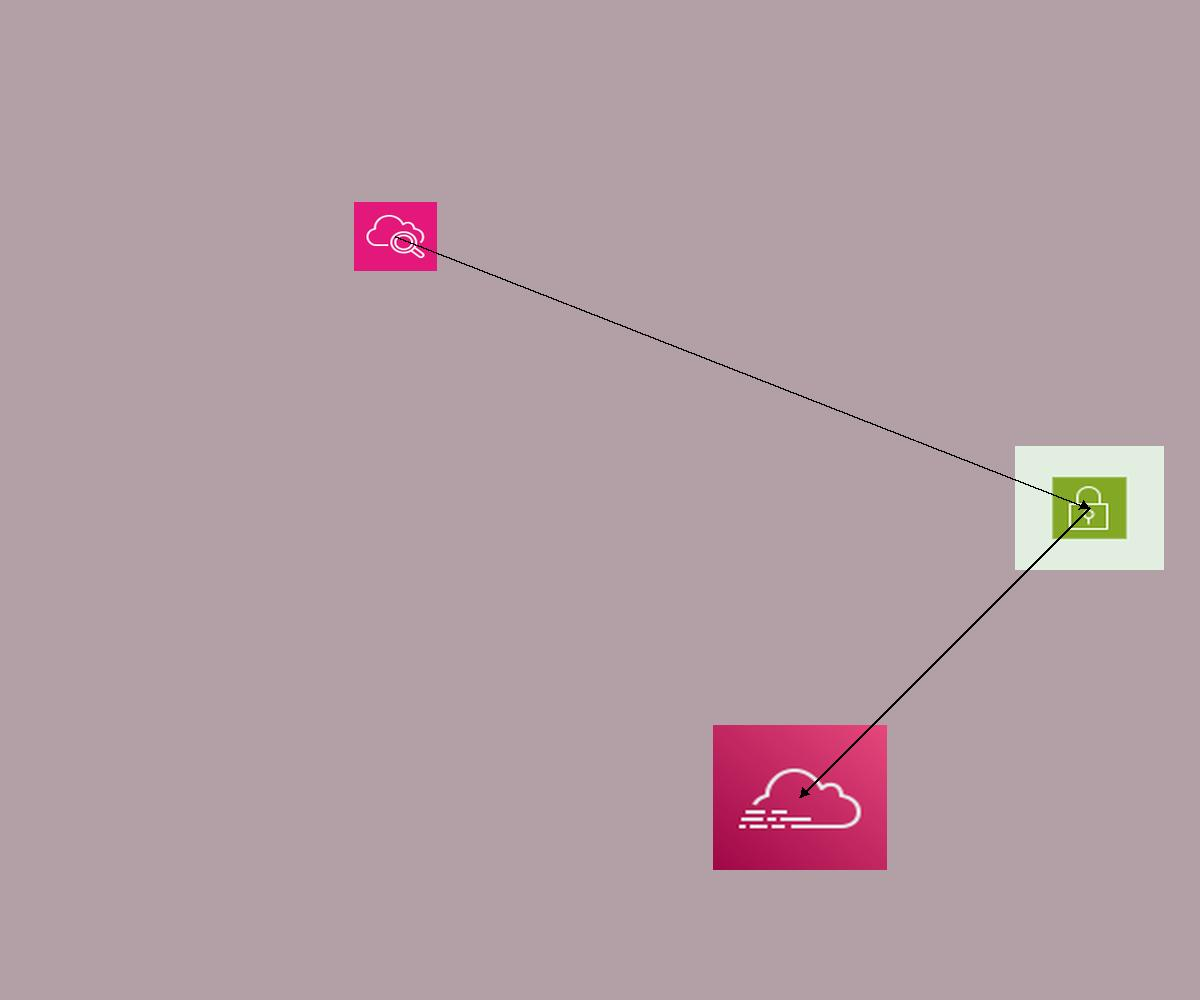AWS-CloudTrail: (713, 725, 887, 870)
AWS-CloudWatch: (354, 202, 437, 271)
AWS-Public-subnet: (1015, 446, 1164, 570)
